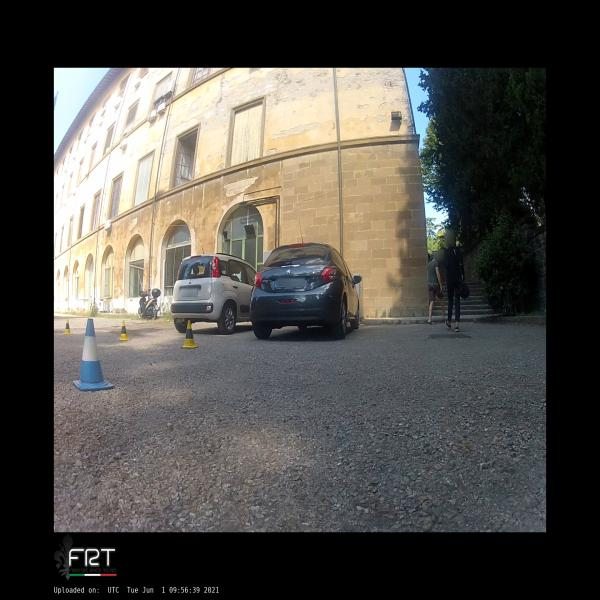blue_cone: (73, 319, 114, 390)
yellow_cone: (181, 319, 198, 348), (118, 320, 130, 341), (63, 318, 72, 335)
